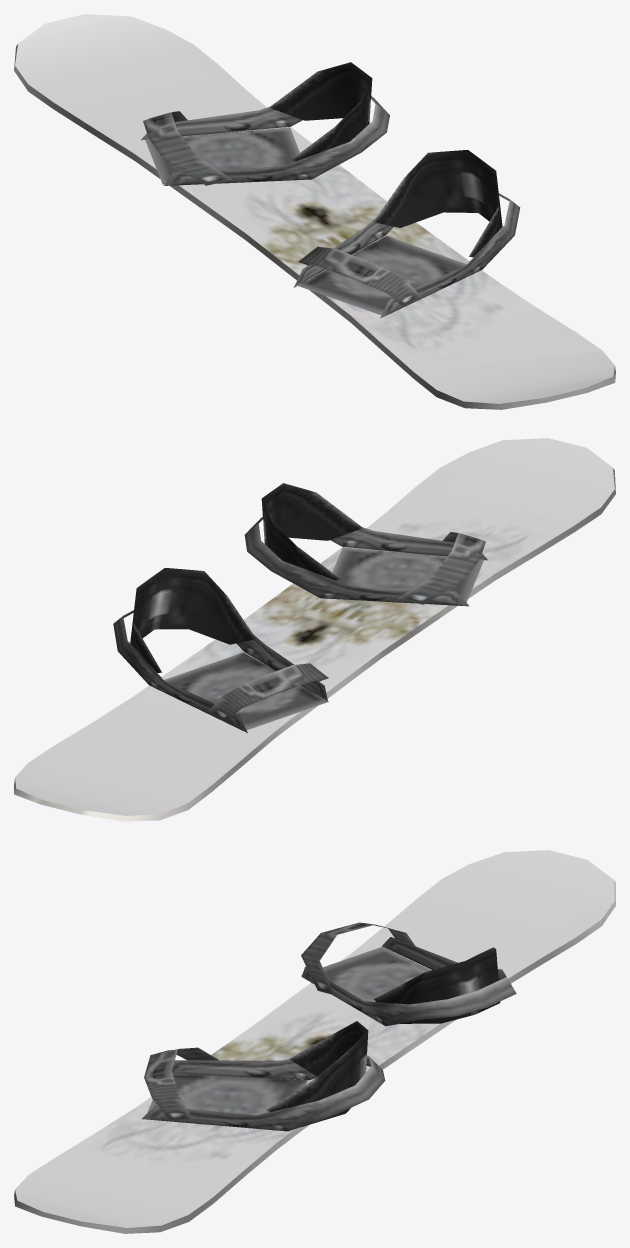
Rendered from board-lod0.glb.
The picture shows the model from 3 angles, top to bottom: view 1: azimuth 30°, elevation 25°; view 2: azimuth 150°, elevation 25°; view 3: azimuth 330°, elevation 25°; orthographic projection. The views are drawn at different scales.
Parts seen in each view (by area): view 1: Mesh_0134; view 2: Mesh_0134; view 3: Mesh_0134.
Part boxes in pixels (box(x1,y1,x2,y2)): Mesh_0134: box(14, 14, 615, 409); Mesh_0134: box(14, 438, 615, 821); Mesh_0134: box(14, 850, 615, 1233).
Bounding box in the file's own units: 0.8421 × 0.31 × 3.36.
1 material, 1 textured.
